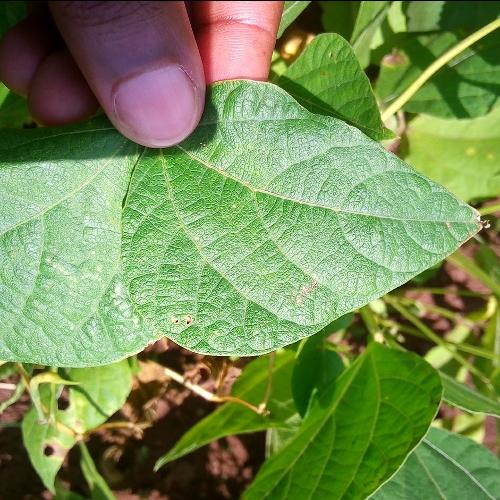sehat: (140, 140, 384, 343)
